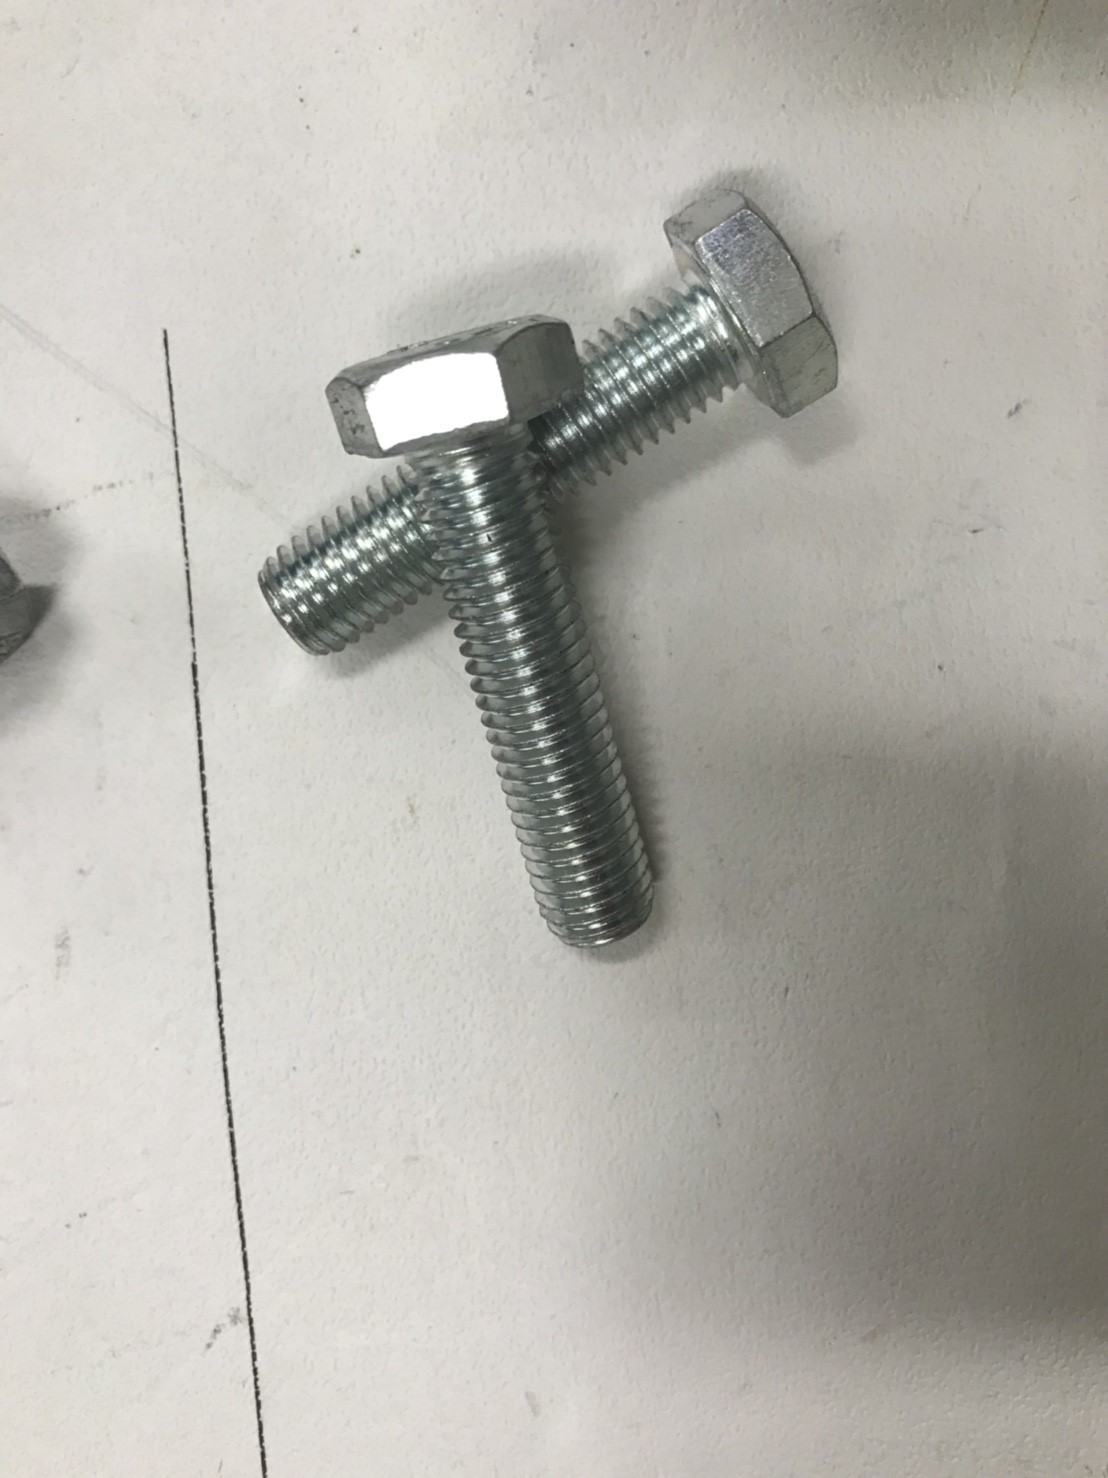screw: (249, 164, 851, 668), (307, 300, 649, 964)
